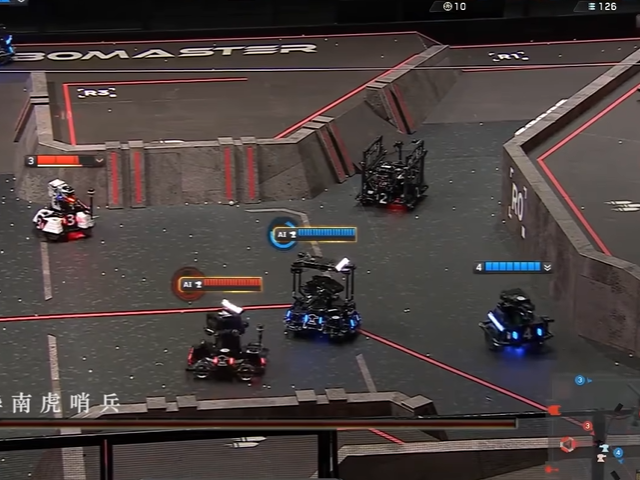rm: (180, 304, 268, 386), (287, 253, 360, 343), (355, 135, 428, 214), (478, 288, 553, 358), (31, 180, 96, 244)
